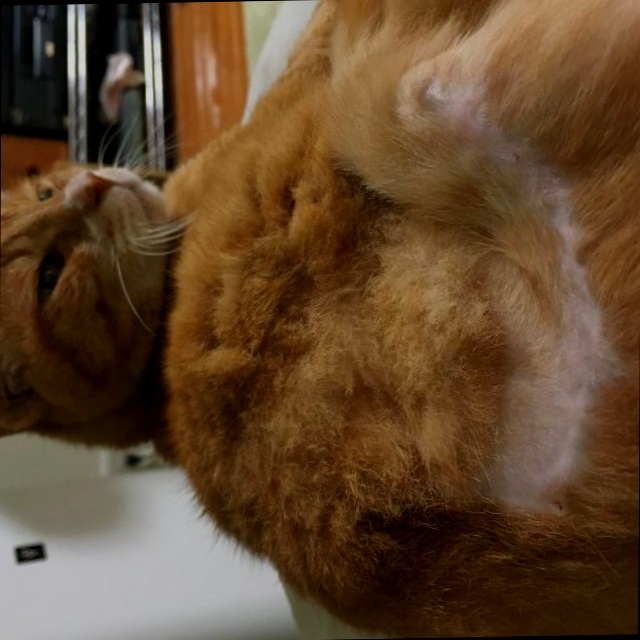hairloss: (488, 285, 602, 491)
